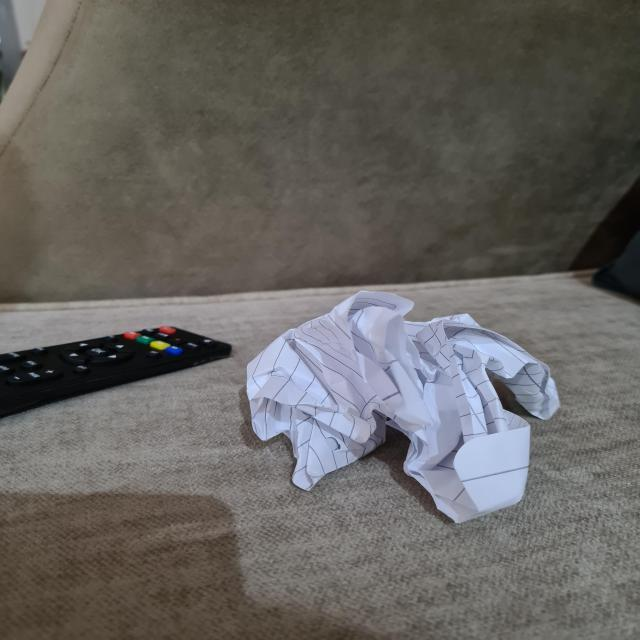trash: (254, 296, 554, 516)
